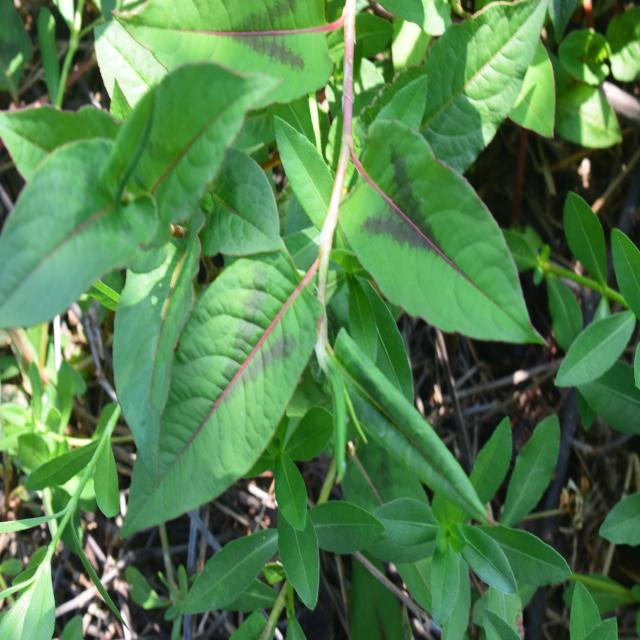Chinese_knotweed: (7, 54, 282, 439)
